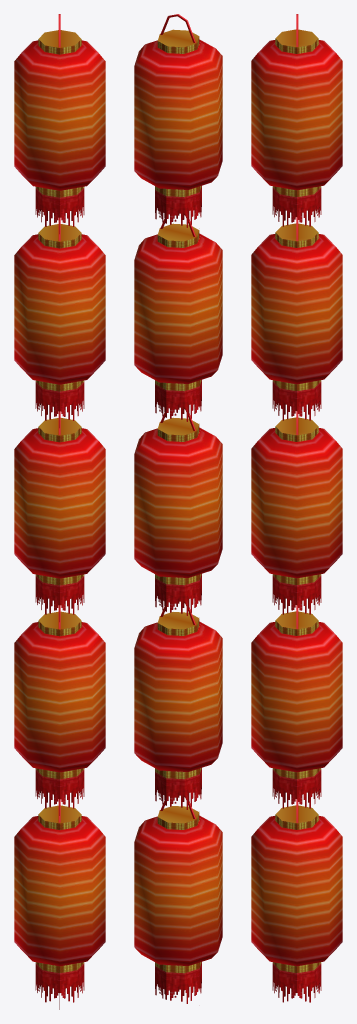
File: furni_0200243.FBX
3 renders of one model, left to right at view 1: azimuth 90°, elevation 25°; view 2: azimuth 150°, elevation 25°; view 3: azimuth 270°, elevation 25°, orthographic.
Parts seen in each view (by area): view 1: furni_0200243; view 2: furni_0200243; view 3: furni_0200243.
Part boxes in pixels (bbox=[...]): furni_0200243: bbox=[14, 14, 105, 1009]; furni_0200243: bbox=[134, 14, 222, 1003]; furni_0200243: bbox=[251, 14, 342, 1002].
Size of the model in its own units: 19.16 by 228 by 19.16.
1 material, 1 textured.
